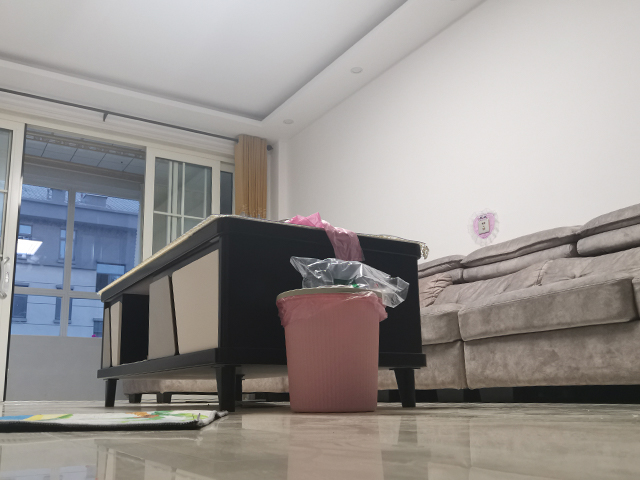carpet: (1, 406, 231, 434)
sofa: (456, 206, 639, 407)
table: (91, 211, 430, 414)
trashcan: (273, 286, 387, 415)
